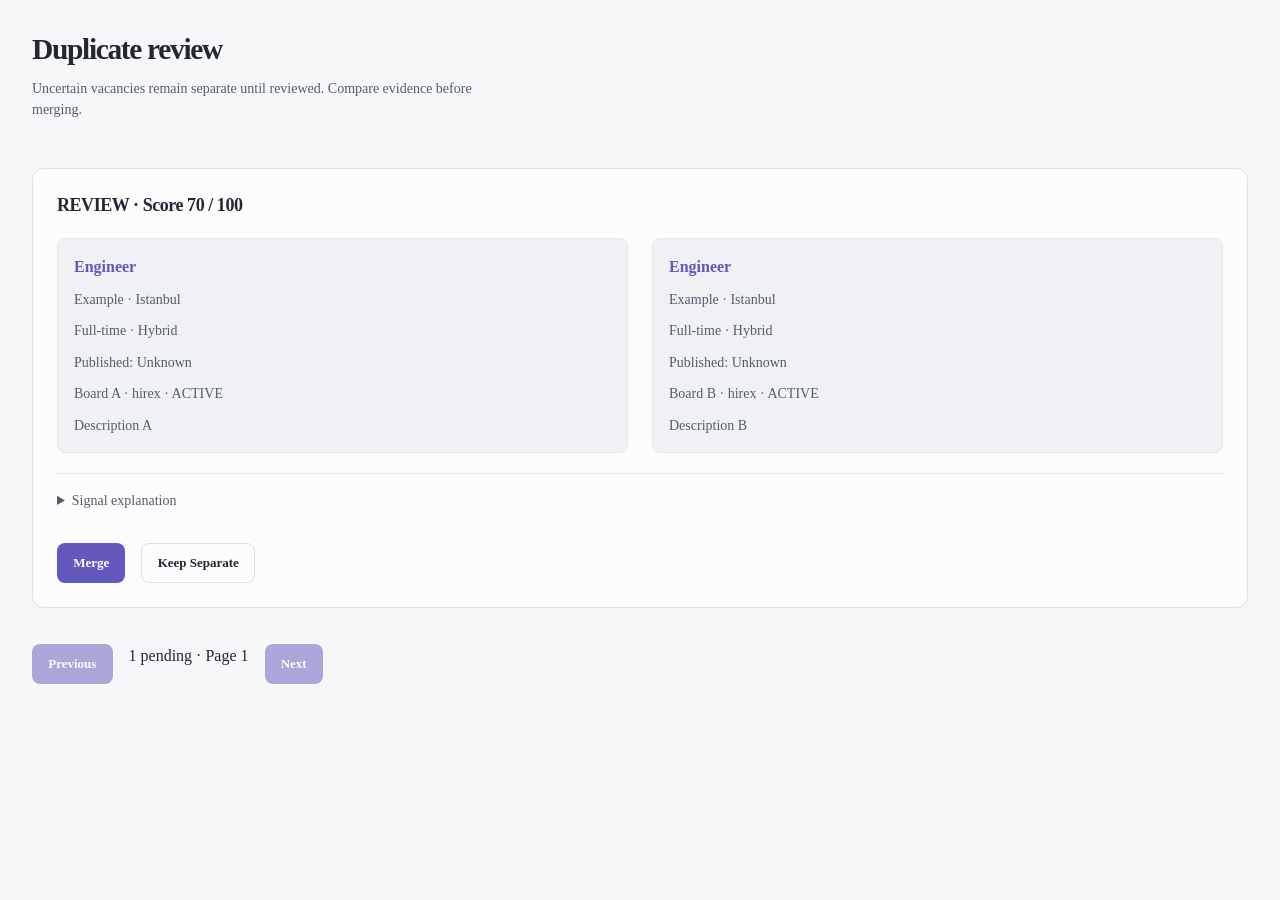
Test case: retains review and confirmation on merge failure
Click the button "Merge".
click(91, 563)  # box [57,543,126,583]
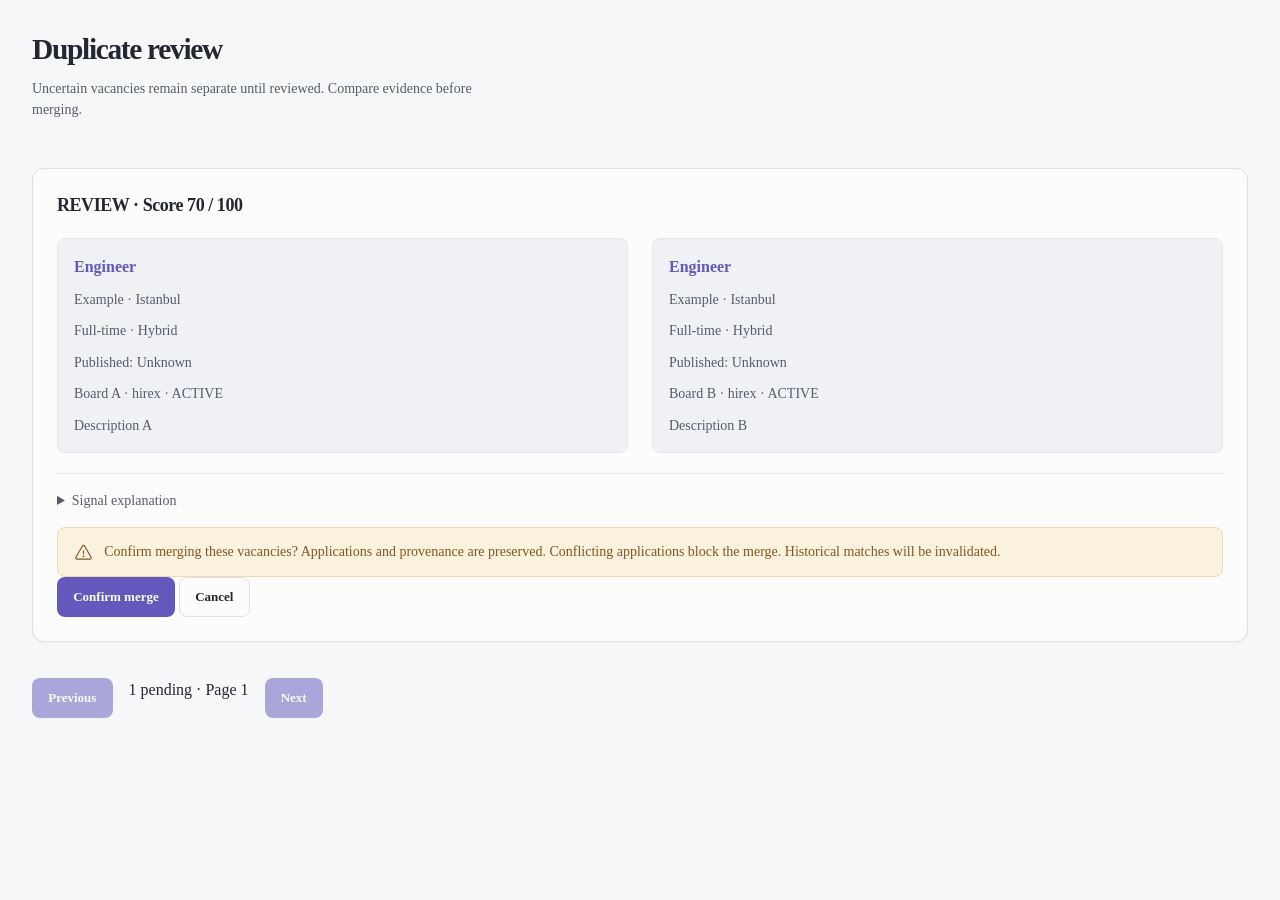
Click the button "Confirm merge".
click(116, 597)  # box [57,577,175,617]
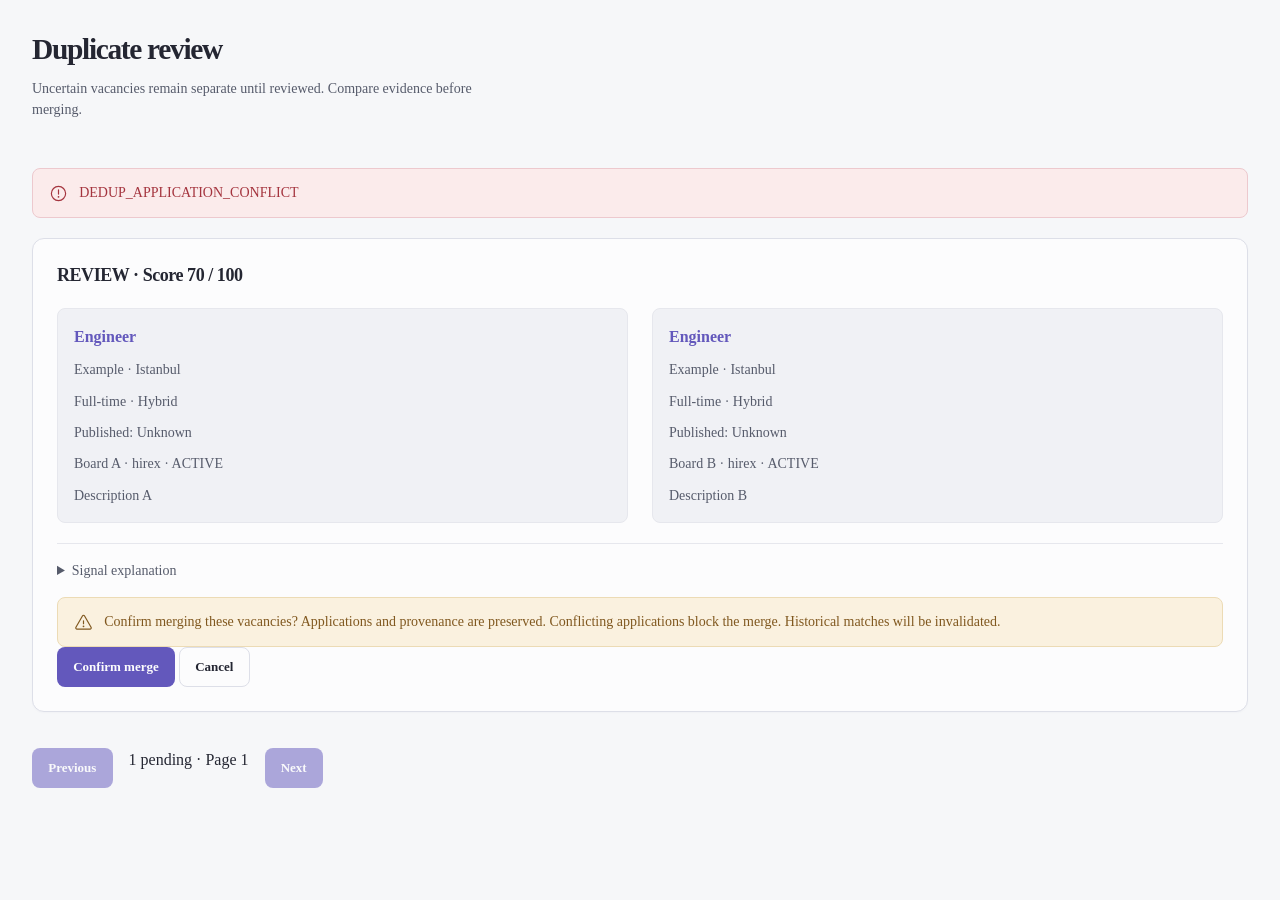
expect the text "Description A" is shown: met, box [74,488,152,503]
expect the text "DEDUP_APPLICATION_CONFLICT" is shown: met, box [79,182,299,203]
